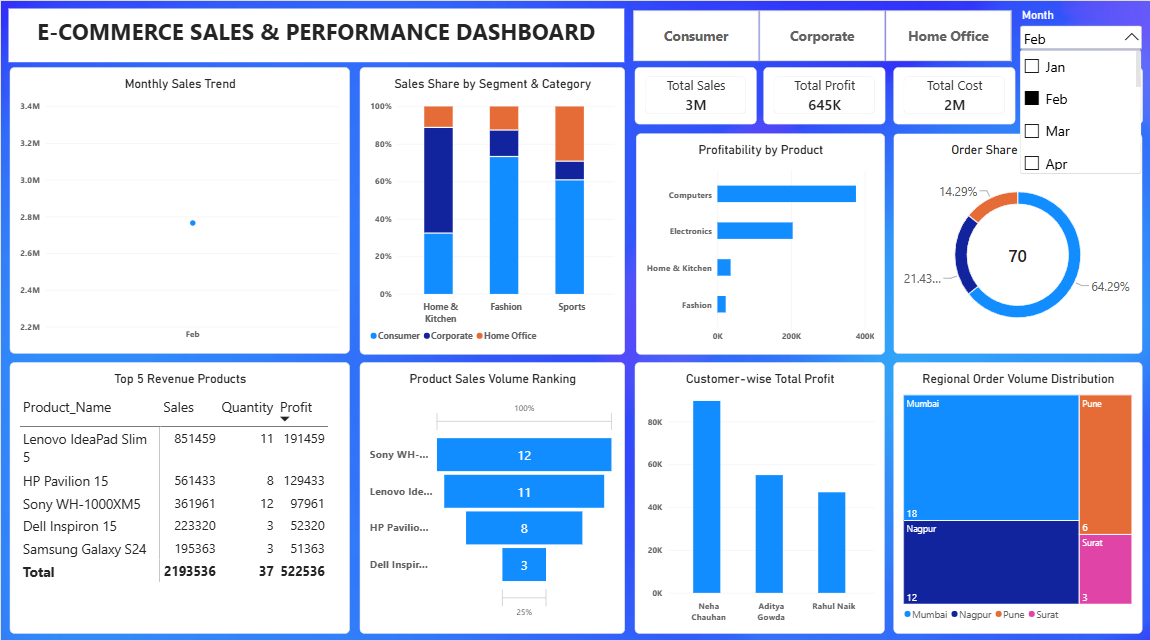

This screenshot's page, from the dashboard's own definition file:
{"tool":"powerbi","page":{"name":"Page 1","canvas":[1920,1080],"ordinal":0},"visuals":[{"type":"cardVisual","fields":{"Data":["Sum(Orders.Total_Sales)"]},"box":[1056.5,128.3,205,94],"z":0},{"type":"cardVisual","fields":{"Data":["Avg(Orders.Profit_Margin)"]},"box":[1713,126.1,191.3,95.7],"z":1000},{"type":"cardVisual","fields":{"Data":["Sum(Orders.Total_Cost)"]},"box":[1280.4,128.3,197.8,95.7],"z":2000},{"type":"cardVisual","fields":{"Data":["Sum(Orders.Total_Profit)"]},"box":[1500,126.1,193.5,95.7],"z":3000},{"type":"lineChart","title":"Monthly Sales Trend","fields":{"Category":["Date_Table.Month"],"Y":["Sum(Orders.Total_Sales)"]},"box":[17.4,130.4,576.1,477],"z":4000},{"type":"clusteredBarChart","title":"Profitability by Product","fields":{"Category":["Products.Category"],"Y":["Sum(Orders.Total_Profit)"]},"box":[1058.7,234.8,432.6,371.7],"z":5000},{"type":"donutChart","title":"Order Share by Segment","fields":{"Category":["Customers.Customer_Segment"],"Y":["CountNonNull(Orders.Order_ID)"]},"box":[1502.2,237,402.2,371.7],"z":6000},{"type":"clusteredColumnChart","fields":{"Category":["Customers.Customer_Name"],"Y":["Sum(Orders.Total_Profit)"]},"box":[1056.5,623.9,432.6,430.4],"z":7000},{"type":"slicer","fields":{"Values":["Date_Table.Month"]},"box":[1696.1,12.3,223.9,97.8],"z":8000},{"type":"pivotTable","title":"Top 5 Revenue Products","fields":{"Rows":["Products.Product_Name"],"Values":["Sum(Orders.Total_Sales)","Orders.Total Quantity","Sum(Orders.Total_Profit)"]},"box":[15.2,623.9,576.1,430.4],"z":9000},{"type":"hundredPercentStackedColumnChart","title":"Sales Share by Segment & Category","fields":{"Category":["Products.Category"],"Series":["Customers.Customer_Segment"],"Y":["Sum(Orders.Total_Sales)"]},"box":[606.5,128.3,434.8,478.3],"z":10000},{"type":"funnel","title":"Product Sales Volume Ranking","fields":{"Category":["Products.Product_Name"],"Y":["Orders.Total Quantity"]},"box":[606.7,624.4,435.6,428.9],"z":11000},{"type":"treemap","title":"Regional Order Volume Distribution","fields":{"Group":["Customers.City"],"Values":["Sum(Orders.Quantity)"]},"box":[1500,623.9,408.7,430.4],"z":12000},{"type":"slicer","fields":{"Values":["Customers.Customer_Segment"]},"box":[1033.3,4.2,671.7,97.8],"z":13000},{"type":"textbox","box":[12.5,12.5,1027.1,89.6],"z":16000}]}

Visuals, with their boxes in screenshot pixels (x1, y1, x2, y2), scaled from the page's 1920x1080 canvas onto the 1150x640 screenshot:
cardVisual - Sum(Orders.Total_Sales): (x1=633, y1=76, x2=756, y2=132)
cardVisual - Avg(Orders.Profit_Margin): (x1=1026, y1=75, x2=1141, y2=131)
cardVisual - Sum(Orders.Total_Cost): (x1=767, y1=76, x2=885, y2=133)
cardVisual - Sum(Orders.Total_Profit): (x1=898, y1=75, x2=1014, y2=131)
"Monthly Sales Trend" lineChart: (x1=10, y1=77, x2=355, y2=360)
"Profitability by Product" clusteredBarChart: (x1=634, y1=139, x2=893, y2=359)
"Order Share by Segment" donutChart: (x1=900, y1=140, x2=1141, y2=361)
clusteredColumnChart - Customers.Customer_Name x Sum(Orders.Total_Profit): (x1=633, y1=370, x2=892, y2=625)
slicer - Date_Table.Month: (x1=1016, y1=7, x2=1149, y2=65)
"Top 5 Revenue Products" pivotTable: (x1=9, y1=370, x2=354, y2=625)
"Sales Share by Segment & Category" hundredPercentStackedColumnChart: (x1=363, y1=76, x2=624, y2=359)
"Product Sales Volume Ranking" funnel: (x1=363, y1=370, x2=624, y2=624)
"Regional Order Volume Distribution" treemap: (x1=898, y1=370, x2=1143, y2=625)
slicer - Customers.Customer_Segment: (x1=619, y1=2, x2=1021, y2=60)
textbox: (x1=7, y1=7, x2=623, y2=61)
